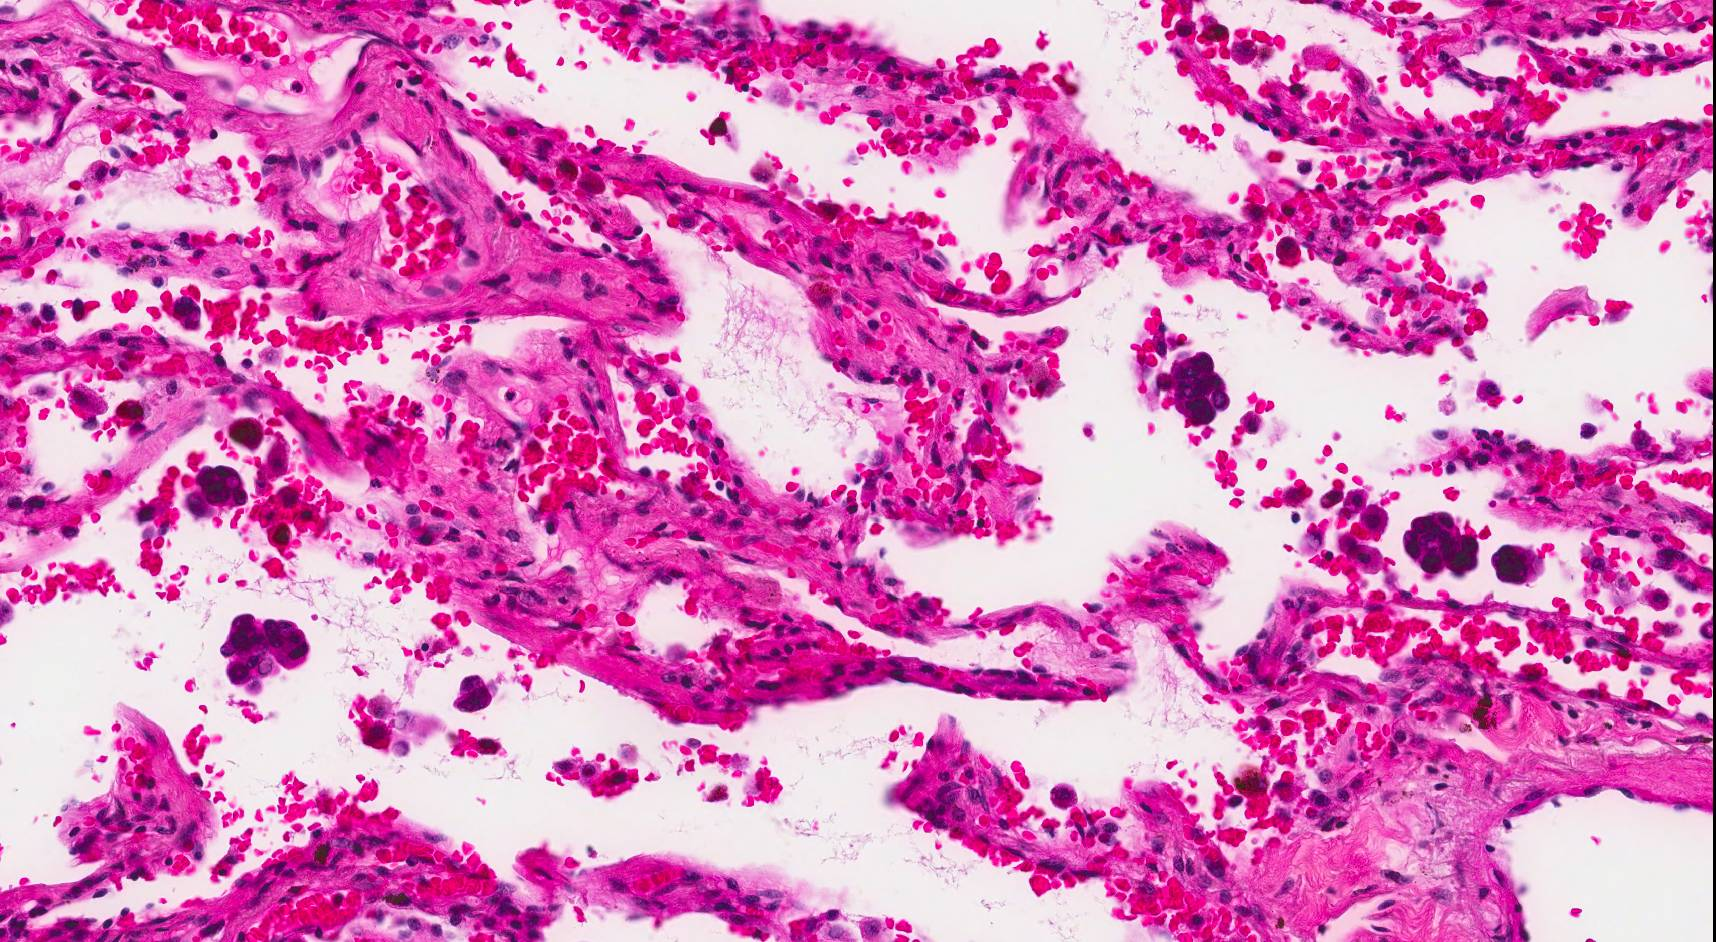stas: (217, 605, 314, 688), (1401, 505, 1484, 581), (1165, 344, 1233, 429), (178, 460, 252, 526), (1493, 539, 1547, 588), (453, 666, 491, 714)
